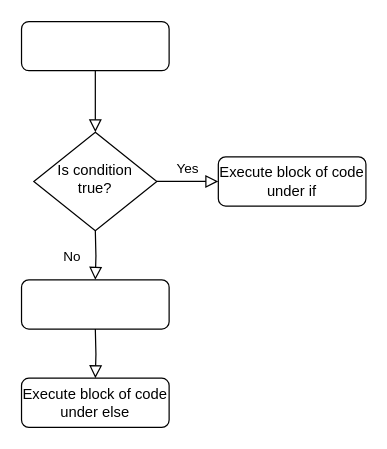
The diagram is 387 pixels wide and 449 high, and some of its shapes have lost their labels. Here are the shapes that lost their labels. From the top down, the centre of each, then its label:
At pixel 94 45: "if condition:".
At pixel 94 304: "else:".
